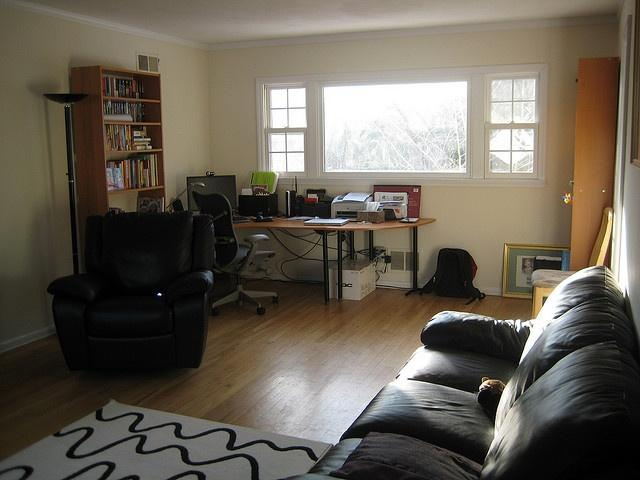AIO PC-Monitor-TV: (185, 173, 236, 211)
Kursi: (193, 189, 279, 314), (530, 206, 612, 319)
Printer: (329, 191, 372, 220)
Rak: (98, 64, 166, 214)
